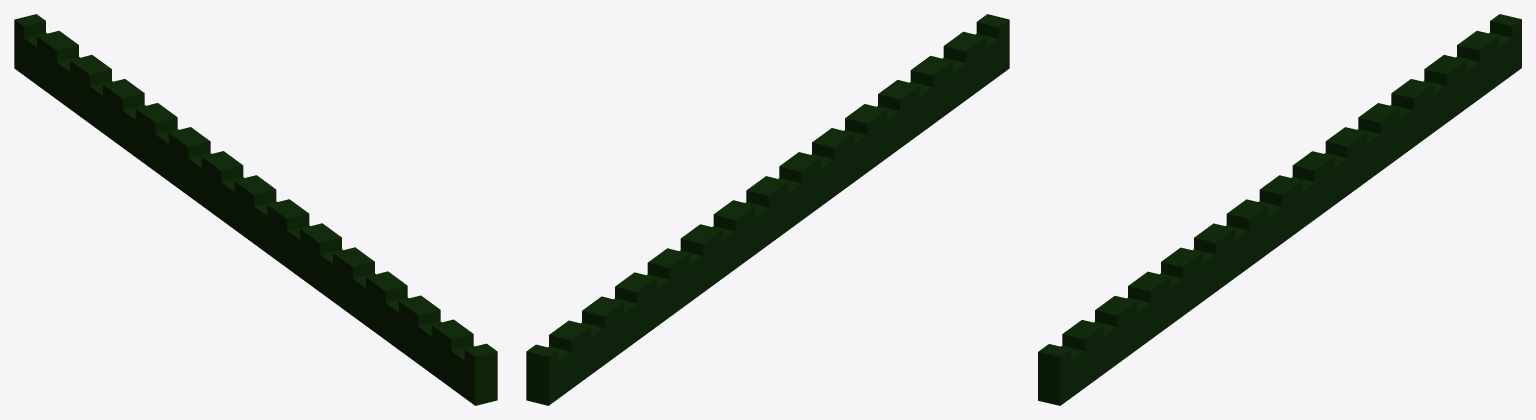
Rendered from wall-top-8.fbx.
The picture shows the model from 3 angles, left to right: view 1: azimuth 30°, elevation 25°; view 2: azimuth 150°, elevation 25°; view 3: azimuth 330°, elevation 25°; orthographic projection.
Visible parts, largest first — view 1: wall-top-8; view 2: wall-top-8; view 3: wall-top-8.
Boxes of the visible parts, left/top/right/bottom form: wall-top-8: left=14, top=14, right=497, bottom=405; wall-top-8: left=526, top=14, right=1009, bottom=405; wall-top-8: left=1038, top=14, right=1521, bottom=405.
Bounding box in the file's own units: 0.4131 × 0.8724 × 14.87.
